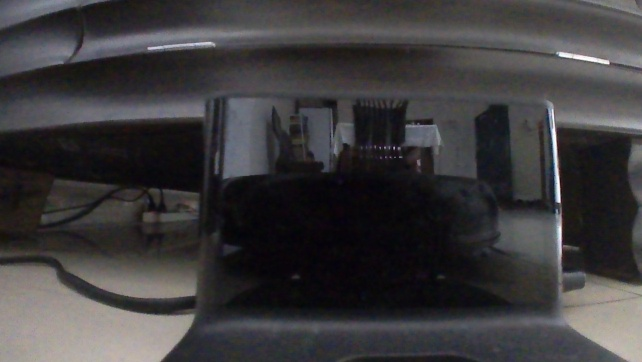wire: (0, 250, 198, 315), (41, 188, 155, 230), (43, 187, 172, 215)
